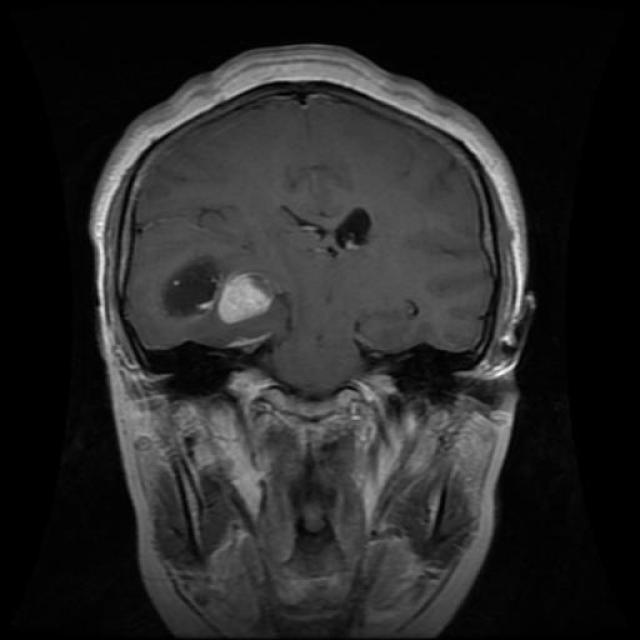meningioma: (218, 276, 272, 325)
